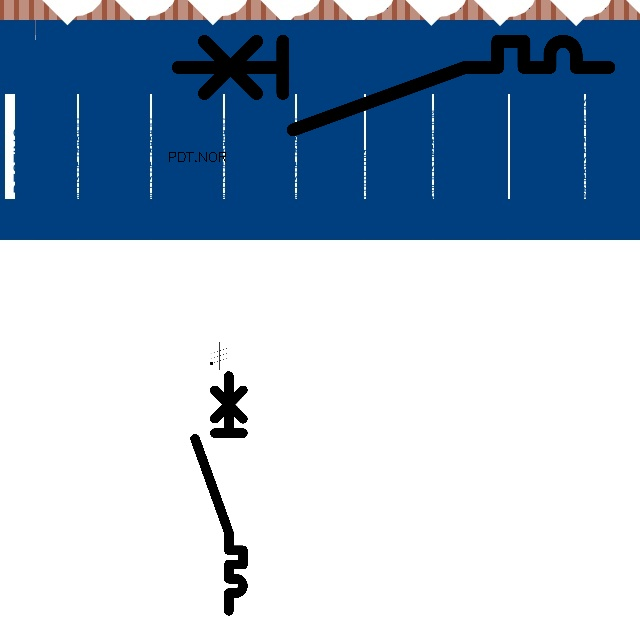interruptor_termomagnetico: (167, 30, 620, 141), (189, 370, 249, 617)
